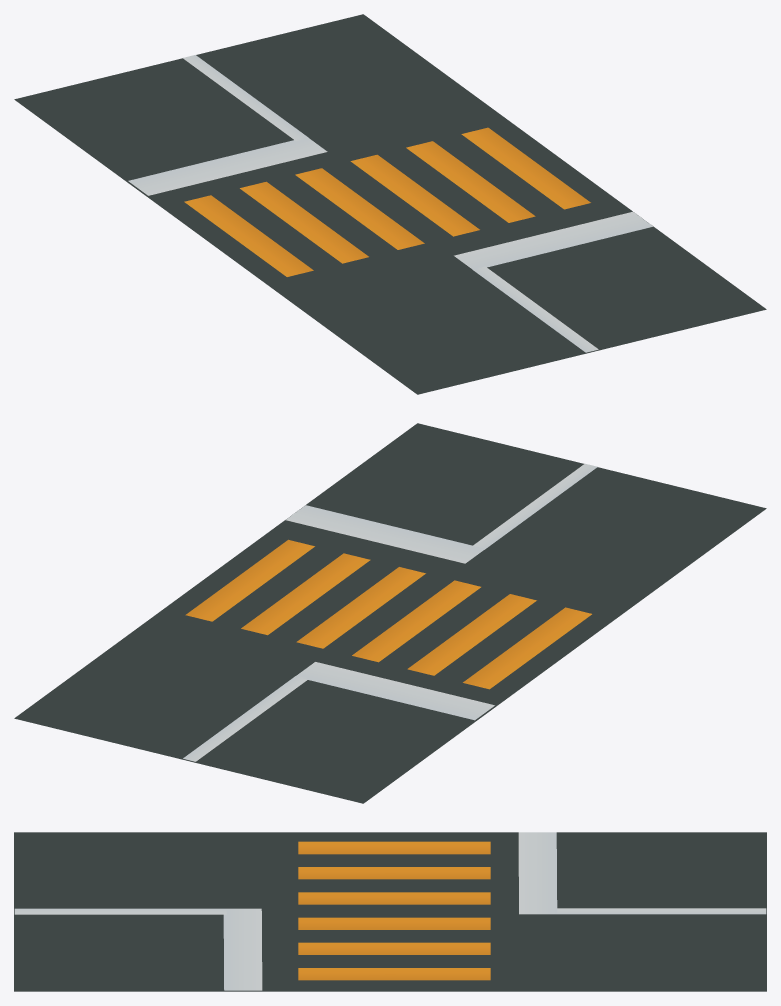
The model's file is Road_2_106.fbx.
The picture shows the model from 3 angles, top to bottom: view 1: azimuth 30°, elevation 25°; view 2: azimuth 150°, elevation 25°; view 3: azimuth 270°, elevation 25°; orthographic projection. The views are drawn at different scales.
Parts seen in each view (by area): view 1: Road_2_106; view 2: Road_2_106; view 3: Road_2_106.
Part boxes in pixels (<box>): Road_2_106: <box>14,14,766,394</box>; Road_2_106: <box>14,423,766,803</box>; Road_2_106: <box>14,832,766,991</box>.
Bounding box in the file's own units: 900 × 1.66 × 1800.
